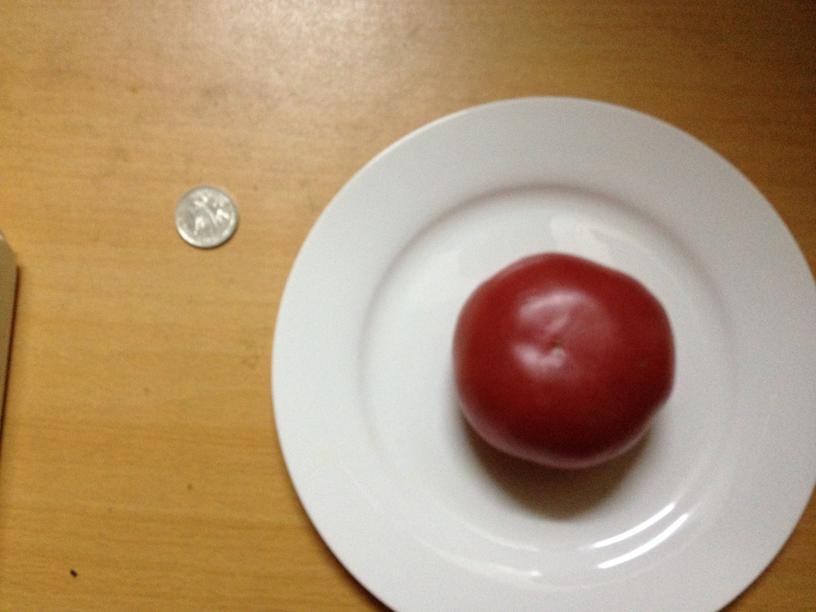coin: (170, 184, 239, 248)
tomato: (439, 255, 674, 470)
